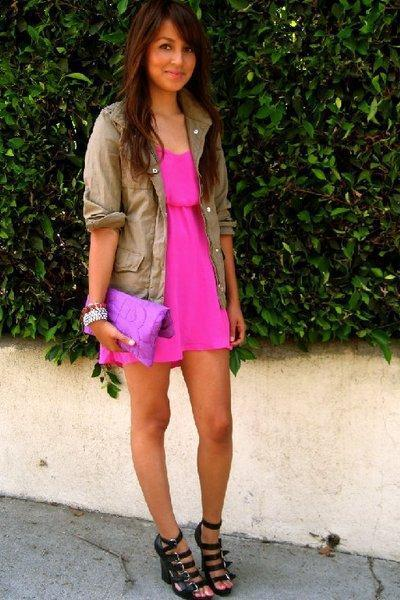bag: (110, 290, 173, 366)
dress: (156, 150, 227, 361)
jacket: (80, 88, 237, 323)
shoe: (154, 530, 235, 599)
